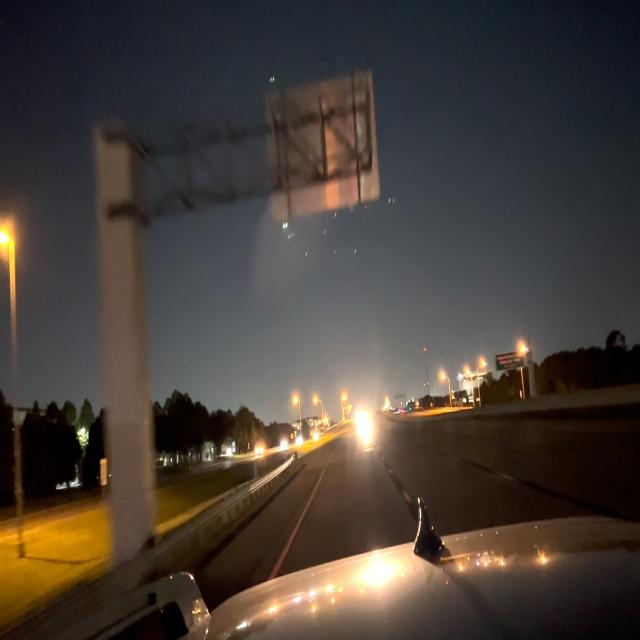back-of-sign: (263, 75, 384, 222)
